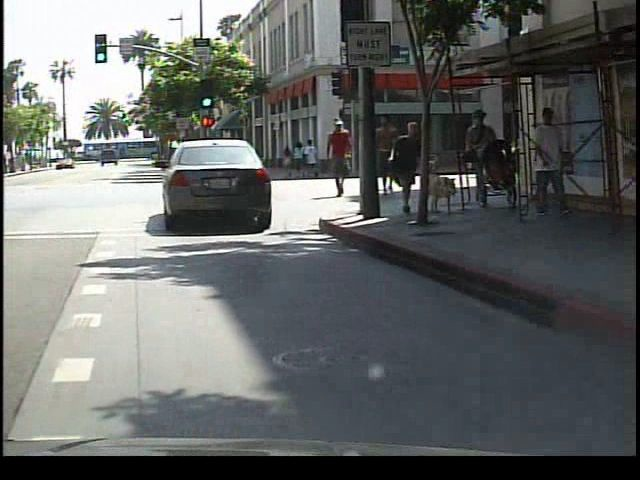person: (369, 109, 404, 202), (326, 114, 362, 201)
